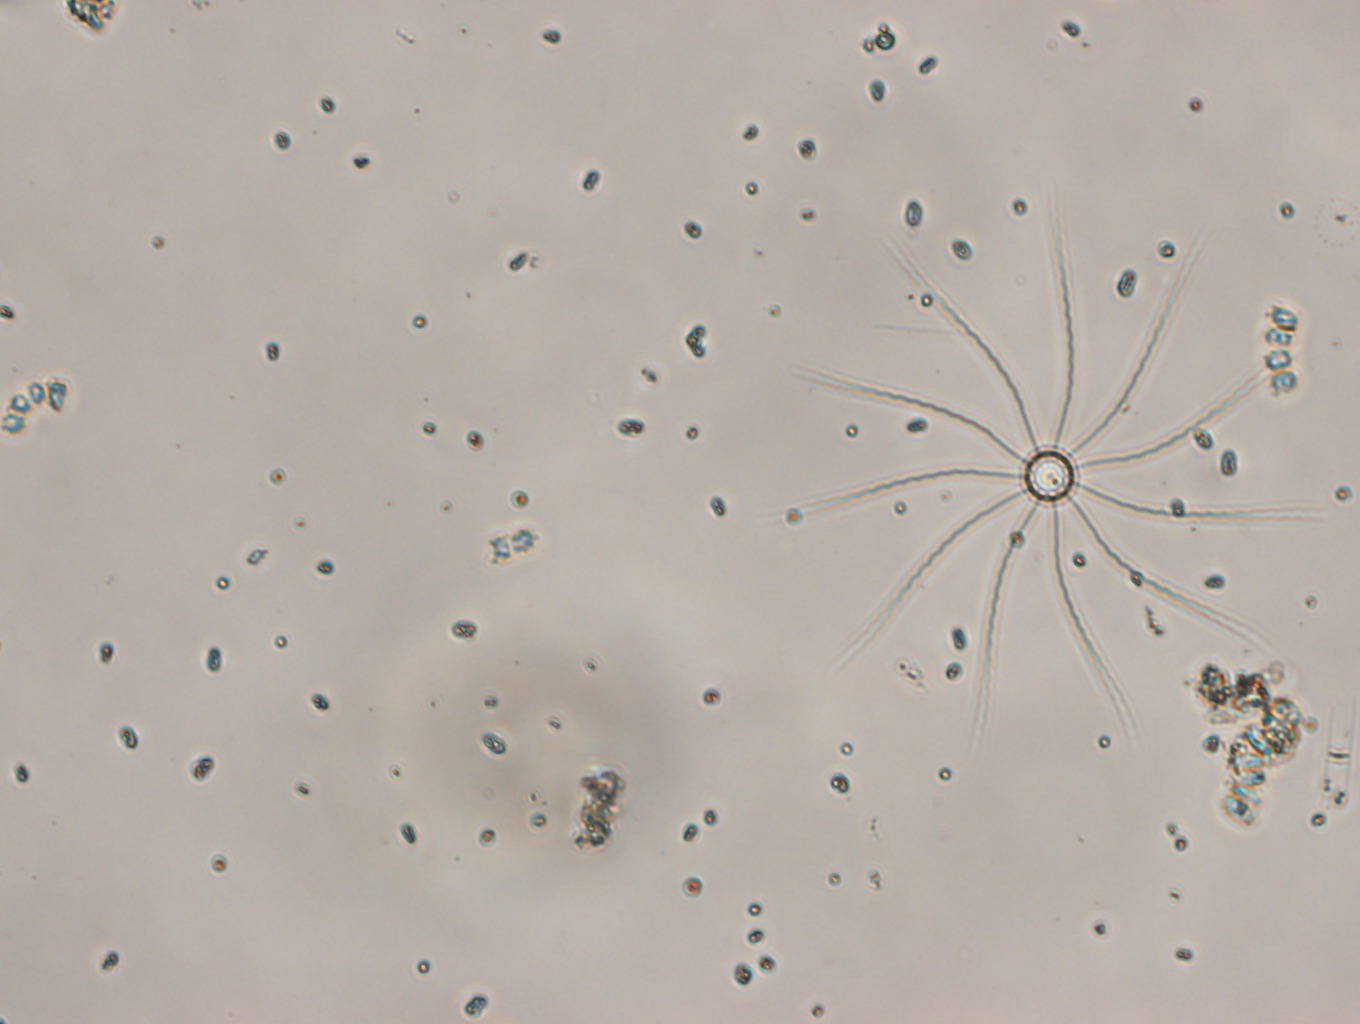bacteriastrum: (790, 208, 1309, 726)
